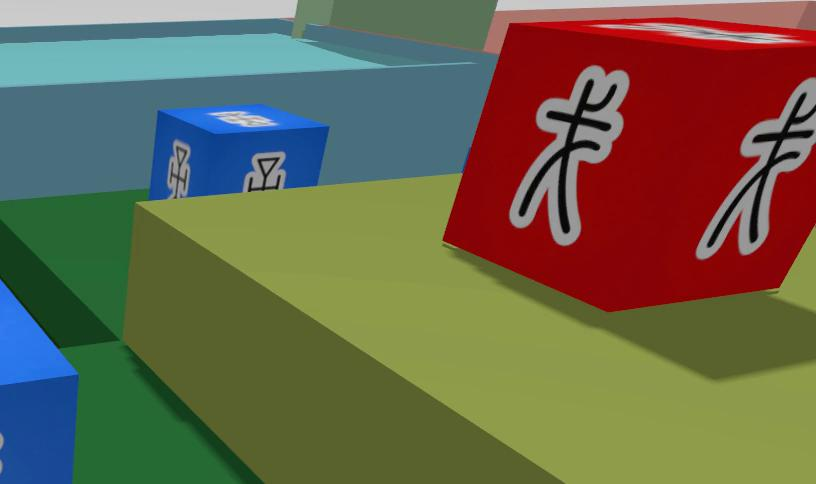KFS_FAKE: (444, 19, 815, 310), (696, 78, 815, 259), (508, 67, 628, 244)
KFS_REAL: (150, 104, 328, 200), (0, 280, 77, 484), (244, 153, 285, 191), (167, 140, 190, 197), (0, 434, 2, 473)
